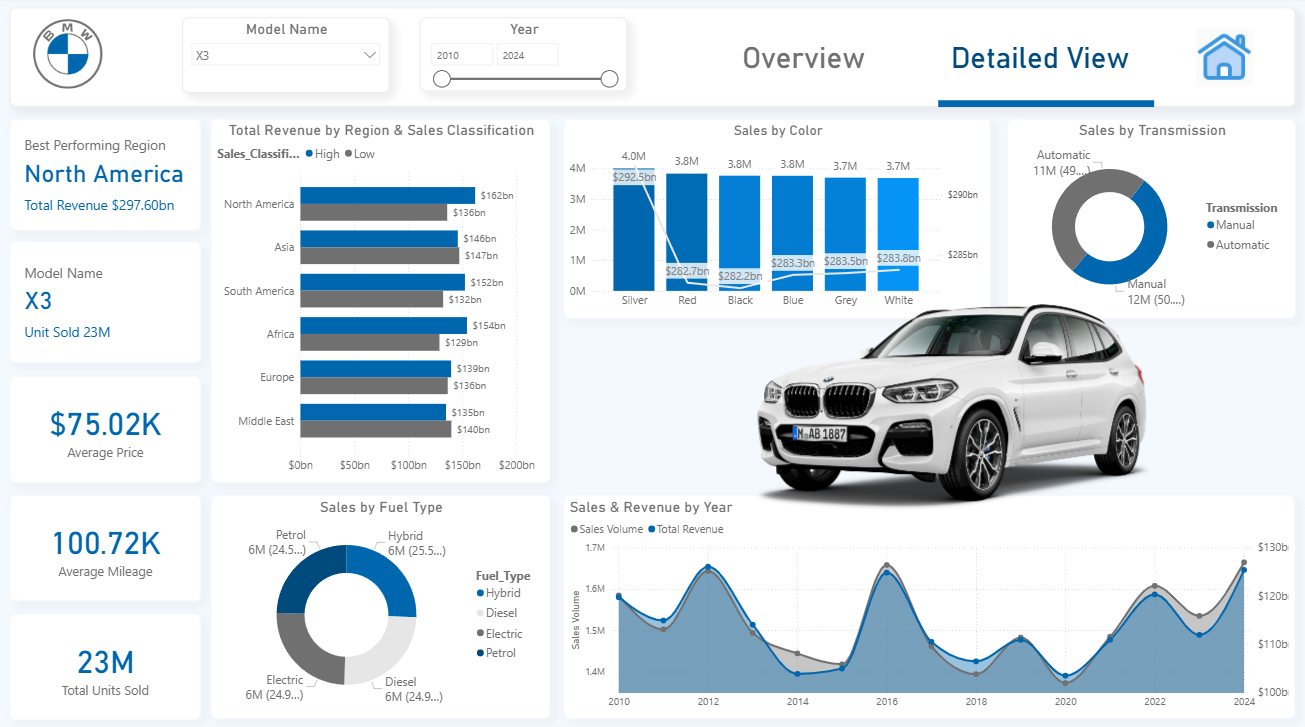

What the dashboard file says about the page in this screenshot:
{"tool":"powerbi","page":{"name":"Detailed View","canvas":[1920,1080],"ordinal":2},"visuals":[{"type":"cardVisual","fields":{"Data":["Min(BMW_Car_Sales_Classification.Region)"]},"box":[18.5,179.1,282,164.7],"z":0},{"type":"card","fields":{"Values":["Measures Table.Average Price"]},"box":[18.5,557.8,282,156.4],"z":1000},{"type":"cardVisual","fields":{"Data":["Min(BMW_Car_Sales_Classification.Model)"]},"box":[18.5,360.2,282,179.1],"z":2000},{"type":"card","fields":{"Values":["Measures Table.Average Mileage"]},"box":[18.5,732.8,282,156.4],"z":3000},{"type":"shape","box":[18.5,16.5,1887.5,146.1],"z":4000},{"type":"card","fields":{"Values":["Measures Table.Total Units Sold"]},"box":[18.5,905.7,282,156.4],"z":5000},{"type":"image","box":[45.3,28.8,115.3,111.1],"z":6000},{"type":"textbox","box":[1035.3,59.7,298.5,80.3],"z":7000},{"type":"shape","box":[1381.1,113,317,88.5],"z":8000},{"type":"textbox","box":[1362.6,59.7,335.5,80.3],"z":9000},{"type":"image","box":[1751.6,35,98.8,109.1],"z":10000},{"type":"lineChart","title":"Sales & Revenue by Year","fields":{"Category":["BMW_Car_Sales_Classification.Year"],"Y":["Sum(BMW_Car_Sales_Classification.Sales_Volume)"],"Y2":["Measures Table.Total Revenue"]},"box":[831.6,732.8,1074.4,329.3],"z":11000},{"type":"lineStackedColumnComboChart","title":"Sales by Color","fields":{"Category":["BMW_Car_Sales_Classification.Color"],"Y":["Sum(BMW_Car_Sales_Classification.Sales_Volume)"],"Y2":["Measures Table.Total Revenue"]},"box":[831.6,179.1,627.8,294.3],"z":12000},{"type":"donutChart","title":"Sales by Fuel Type","fields":{"Category":["BMW_Car_Sales_Classification.Fuel_Type"],"Y":["Sum(BMW_Car_Sales_Classification.Sales_Volume)"]},"box":[312.9,732.8,498.1,329.3],"z":13000},{"type":"slicer","title":"Model Name","fields":{"Values":["BMW_Car_Sales_Classification.Model"]},"box":[271.7,30.9,304.6,111.1],"z":14000},{"type":"slicer","title":"Year","fields":{"Values":["BMW_Car_Sales_Classification.Year"]},"box":[619.6,30.9,304.6,109.1],"z":15000},{"type":"shape","box":[1035.3,20.6,298.5,144.1],"z":16000},{"type":"clusteredBarChart","title":"Total Revenue by Region & Sales Classification","fields":{"Category":["BMW_Car_Sales_Classification.Region"],"Y":["Measures Table.Total Revenue"],"Series":["BMW_Car_Sales_Classification.Sales_Classification"]},"box":[312.9,179.1,498.1,535.2],"z":17000},{"type":"donutChart","title":"Sales by Transmission","fields":{"Category":["BMW_Car_Sales_Classification.Transmission"],"Y":["Sum(BMW_Car_Sales_Classification.Sales_Volume)"]},"box":[1482,179.1,424,294.3],"z":18000},{"type":"imageDB603108E3FF4EBFB8047F5653368E8C","fields":{"imageUrl":["BMW Images.URL"],"imageTitle":["BMW_Car_Sales_Classification.Model"]},"box":[983.9,360.2,922.1,428.1],"z":19000}]}

Visuals, with their boxes in screenshot pixels (x1, y1, x2, y2), scaled from the page's 1920x1080 canvas onto the 1305x727 screenshot:
cardVisual - Min(BMW_Car_Sales_Classification.Region): (left=13, top=121, right=204, bottom=231)
card - Measures Table.Average Price: (left=13, top=375, right=204, bottom=481)
cardVisual - Min(BMW_Car_Sales_Classification.Model): (left=13, top=242, right=204, bottom=363)
card - Measures Table.Average Mileage: (left=13, top=493, right=204, bottom=599)
shape: (left=13, top=11, right=1295, bottom=109)
card - Measures Table.Total Units Sold: (left=13, top=610, right=204, bottom=715)
image: (left=31, top=19, right=109, bottom=94)
textbox: (left=704, top=40, right=907, bottom=94)
shape: (left=939, top=76, right=1154, bottom=136)
textbox: (left=926, top=40, right=1154, bottom=94)
image: (left=1191, top=24, right=1258, bottom=97)
"Sales & Revenue by Year" lineChart: (left=565, top=493, right=1295, bottom=715)
"Sales by Color" lineStackedColumnComboChart: (left=565, top=121, right=992, bottom=319)
"Sales by Fuel Type" donutChart: (left=213, top=493, right=551, bottom=715)
"Model Name" slicer: (left=185, top=21, right=392, bottom=96)
"Year" slicer: (left=421, top=21, right=628, bottom=94)
shape: (left=704, top=14, right=907, bottom=111)
"Total Revenue by Region & Sales Classification" clusteredBarChart: (left=213, top=121, right=551, bottom=481)
"Sales by Transmission" donutChart: (left=1007, top=121, right=1295, bottom=319)
imageDB603108E3FF4EBFB8047F5653368E8C - BMW Images.URL x BMW_Car_Sales_Classification.Model: (left=669, top=242, right=1295, bottom=531)
